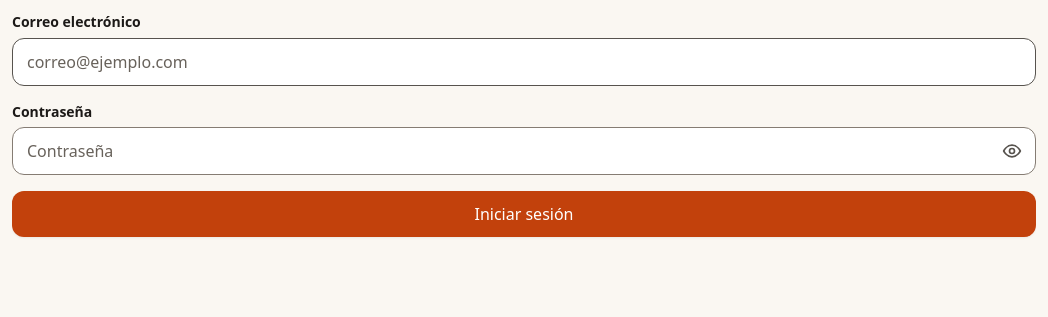
Scenario: muestra un mensaje amable y vuelve a habilitar el botón si falla la conexión al iniciar sesión
Type "nami@example.com" into the field labelled "Correo electrónico" at (524, 62), box [12,38,1036,86]
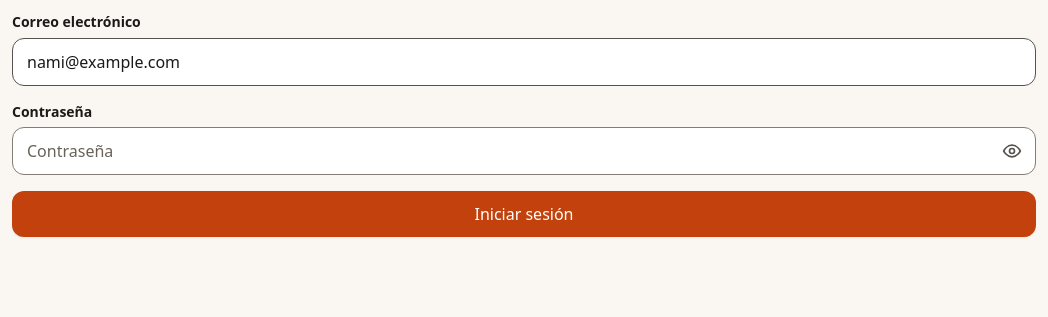
Type "password-123" into the password field named "password" at (524, 151), box [12,127,1036,175]
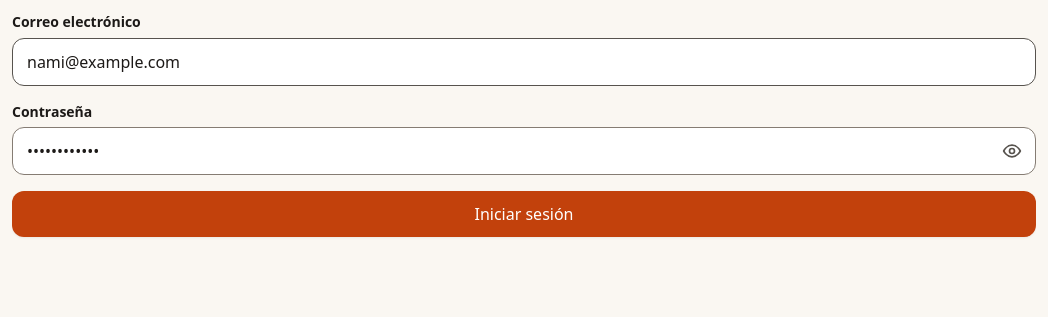
Submit the form "Iniciar sesión"
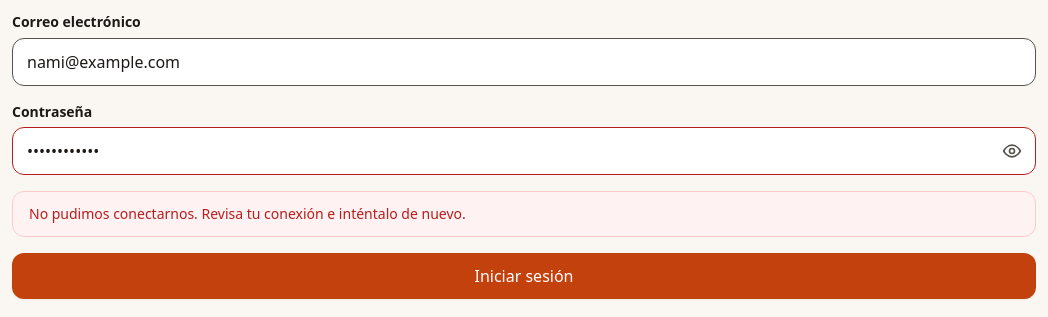
Check: the button "Iniciar sesión" is enabled, box [12,253,1036,299]
Check: the message reads "No pudimos conectarnos. Revisa tu conexión e inténtalo de nuevo.", box [29,204,466,223]
